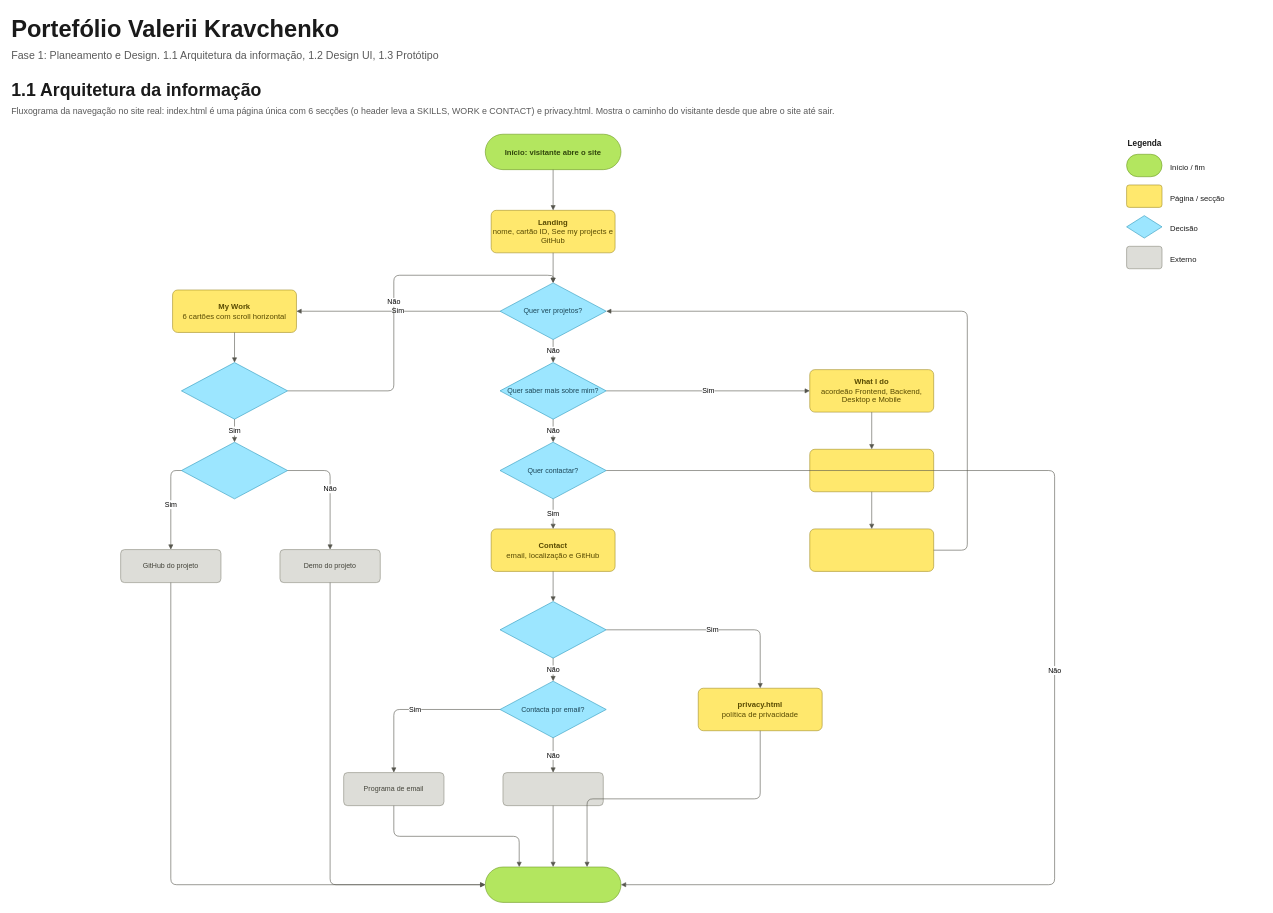
Some shapes in this 1273 by 913 pixel diagram are drawn without their labels. Here are the shapes that lost their labels. From the top down, the centre of each, then its label:
At [234,390]: "Abre um projeto?".
At [234,470]: "Quer ver o código?".
At [871,470]: "Journey linha do tempo START, 2025, NOW".
At [871,549]: "Skills tabs Hard, Soft e Languages".
At [552,629]: "Abre Privacy no rodapé?".
At [552,789]: "Perfil no GitHub".
At [553,884]: "Fim: sai do site".
